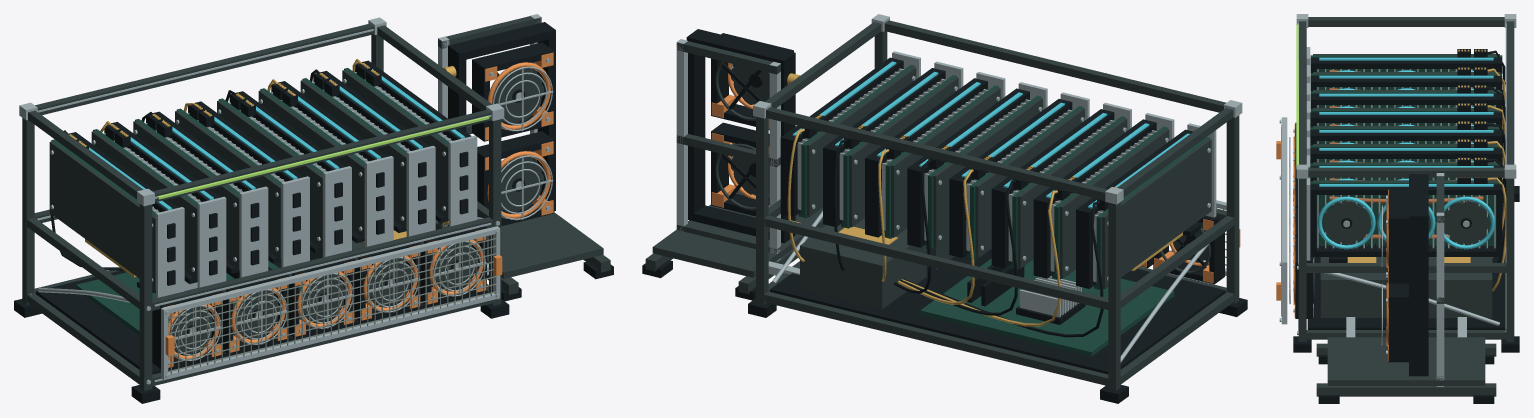
Rendered from rig-8-mesh-air.glb.
3 views of the same model, side by side, from view 1: azimuth 30°, elevation 25°; view 2: azimuth 150°, elevation 25°; view 3: azimuth 270°, elevation 25° (orthographic). The views are drawn at different scales.
Parts seen in each view (by area): view 1: Anodized graphite (×9), Brushed aluminium (×18), Rubber and ABS (×17), gpu-triple (×8), Filter fibres, Industrial orange (×7), Circuit board, rig-8-mesh-air; view 2: Anodized graphite (×3), Rubber and ABS (×13), gpu-triple (×8), Brushed aluminium (×10), Circuit board, slot-cable-1, slot-cable-2, slot-cable-3, slot-cable-4, Industrial orange, slot-cable-5; view 3: Anodized graphite (×4), Rubber and ABS (×14), gpu-triple (×8), Coolant blue (×8), Brushed aluminium (×5), rig-8-mesh-air, Copper heat pipes, Contacts, slot-cable-8, Industrial orange.
Part boxes in pixels (<box>): Anodized graphite (×9): <box>22,16,610,390</box>; Brushed aluminium (×18): <box>19,14,553,384</box>; Rubber and ABS (×17): <box>14,22,555,403</box>; gpu-triple (×8): <box>49,68,448,290</box>; Filter fibres: <box>168,235,496,374</box>; Industrial orange (×7): <box>163,52,553,367</box>; Circuit board: <box>76,260,304,335</box>; rig-8-mesh-air: <box>158,116,489,199</box>; Anodized graphite (×3): <box>645,20,1239,390</box>; Rubber and ABS (×13): <box>686,29,1247,403</box>; gpu-triple (×8): <box>801,65,1211,289</box>; Brushed aluminium (×10): <box>676,14,1242,362</box>; Circuit board: <box>798,212,1174,356</box>; slot-cable-1: <box>902,201,1103,337</box>; slot-cable-2: <box>901,190,1060,326</box>; slot-cable-3: <box>900,179,1017,315</box>; slot-cable-4: <box>898,169,974,304</box>; Industrial orange: <box>711,132,769,207</box>; slot-cable-5: <box>894,159,931,293</box>; Anodized graphite (×4): <box>1298,17,1514,396</box>; Rubber and ABS (×14): <box>1293,49,1519,403</box>; gpu-triple (×8): <box>1310,54,1502,245</box>; Coolant blue (×8): <box>1317,57,1495,249</box>; Brushed aluminium (×5): <box>1281,14,1516,386</box>; rig-8-mesh-air: <box>1296,24,1298,168</box>; Copper heat pipes: <box>1329,196,1483,238</box>; Contacts: <box>1347,257,1470,262</box>; slot-cable-8: <box>1487,177,1506,291</box>; Industrial orange: <box>1293,238,1313,317</box>.
Bounding box in the file's own units: 8.02 × 3.32 × 3.94.
